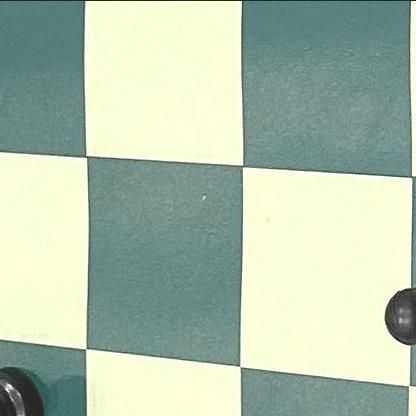black-pawn: (371, 242, 416, 369)
